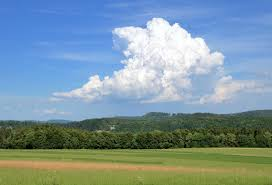Cumulus: (53, 12, 258, 107)
